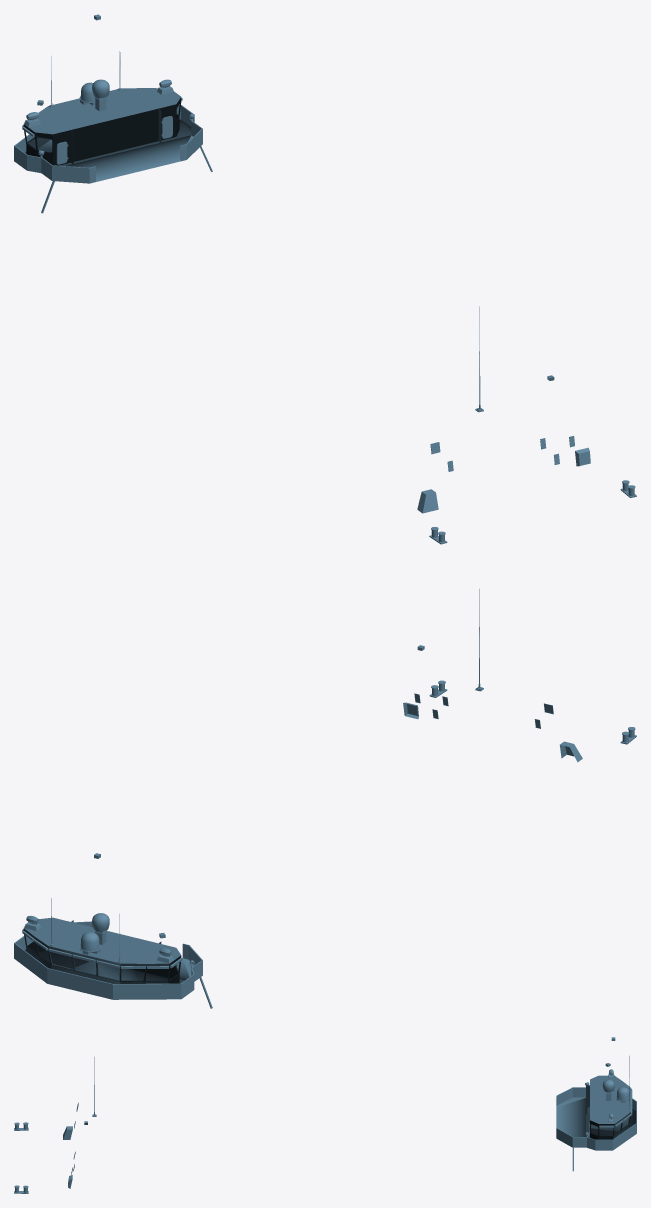
File: Wheelhouse.fbx
3 renders of one model, top to bottom at view 1: azimuth 30°, elevation 25°; view 2: azimuth 150°, elevation 25°; view 3: azimuth 270°, elevation 25°, orthographic. The views are drawn at different scales.
Parts seen in each view (by area): view 1: O:Wheelhouse; view 2: O:Wheelhouse; view 3: O:Wheelhouse.
Boxes of the visible parts, x1=… form: O:Wheelhouse: x1=14, y1=14, x2=636, y2=544; O:Wheelhouse: x1=14, y1=589, x2=636, y2=1008; O:Wheelhouse: x1=14, y1=1037, x2=636, y2=1193.
Size of the model in its own units: 2001 by 1771 by 8045.
